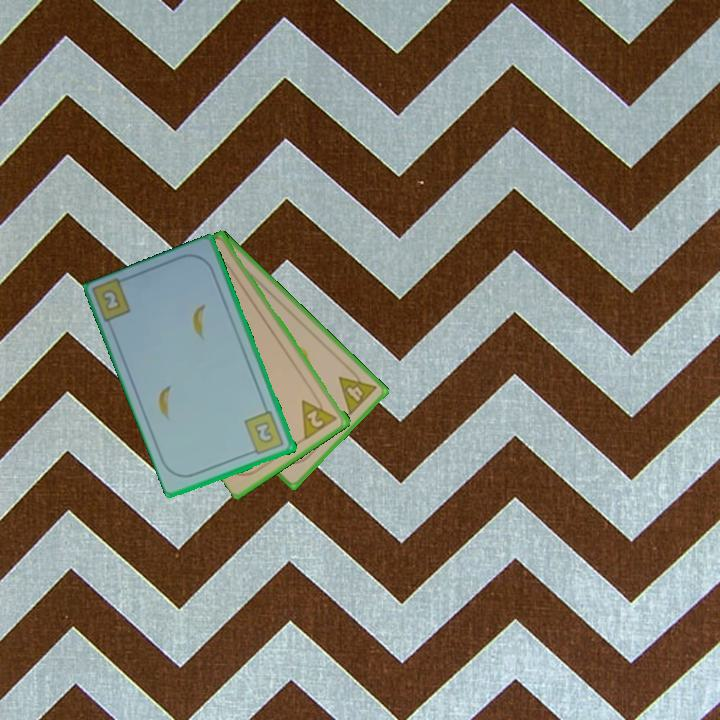2b: (241, 408, 287, 458), (98, 286, 124, 315)
2p: (298, 390, 341, 442)
4p: (335, 364, 380, 418)
